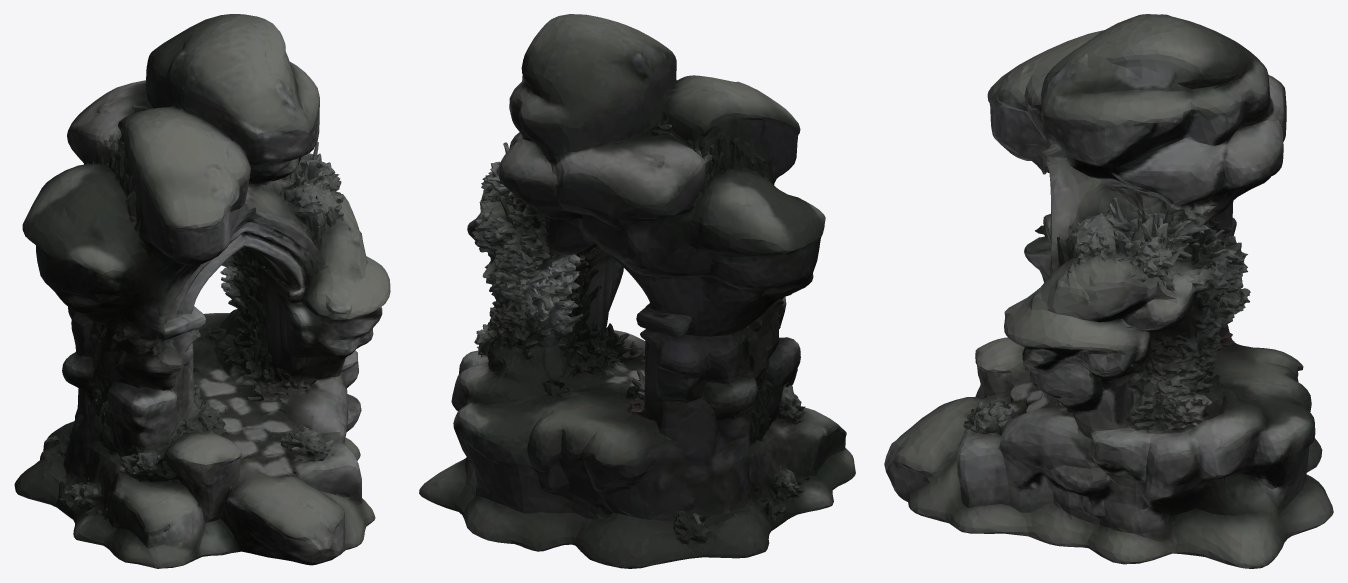
Rendered from basalt_cluster_01.glb.
3 views of the same model, side by side, from view 1: azimuth 30°, elevation 25°; view 2: azimuth 150°, elevation 25°; view 3: azimuth 270°, elevation 25° (orthographic). The views are drawn at different scales.
Visible parts, largest first — view 1: geometry_0; view 2: geometry_0; view 3: geometry_0.
Part boxes in pixels (box(x1,y1,x2,y2)): geometry_0: box(14, 14, 390, 568); geometry_0: box(419, 14, 855, 568); geometry_0: box(884, 14, 1333, 568).
Bounding box in the file's own units: 0.762 × 1 × 0.8376.
Materials: 1 (1 with a texture image).
